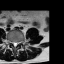CCS_normal: (14, 39, 16, 50)
LFS_normal: (18, 39, 20, 45)
LLS_normal: (16, 39, 18, 47)
RFS_normal: (10, 38, 12, 45)
RLS_normal: (12, 39, 14, 46)
